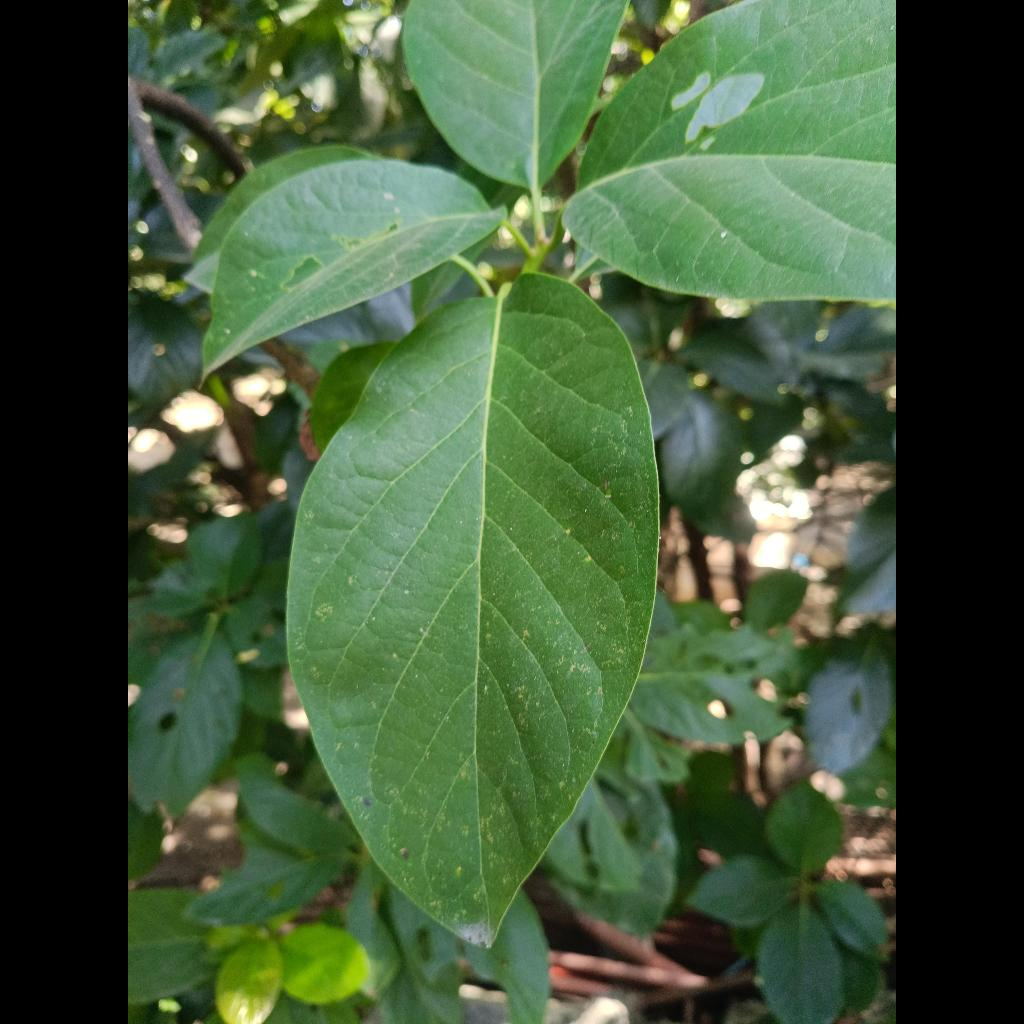Healthy: (288, 274, 658, 944)
